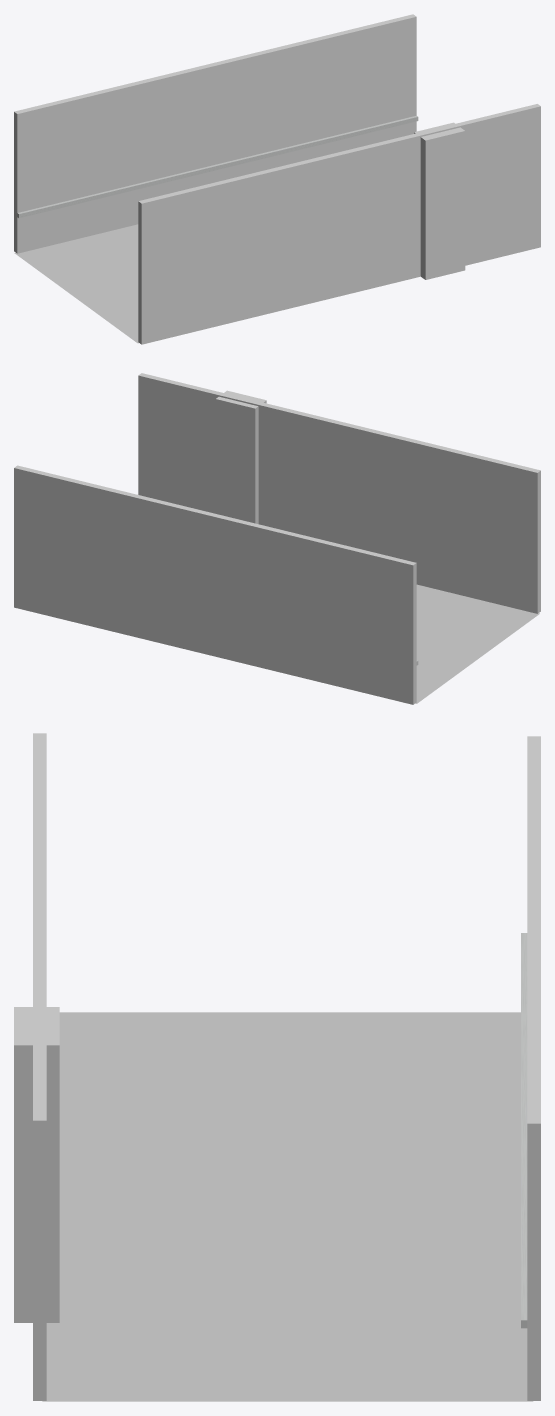
Rendered from Lab_Mesh.dae.
3 renders of one model, top to bottom at view 1: azimuth 30°, elevation 25°; view 2: azimuth 150°, elevation 25°; view 3: azimuth 270°, elevation 25°, orthographic. The views are drawn at different scales.
Visible parts, largest first — view 1: Lab_Mesh; view 2: Lab_Mesh; view 3: Lab_Mesh.
Boxes of the visible parts, bbox=[...] form: Lab_Mesh: bbox=[14, 14, 540, 344]; Lab_Mesh: bbox=[14, 373, 540, 704]; Lab_Mesh: bbox=[14, 733, 540, 1401].
Bounding box in the file's own units: 10.11 × 5.78 × 3.4.
